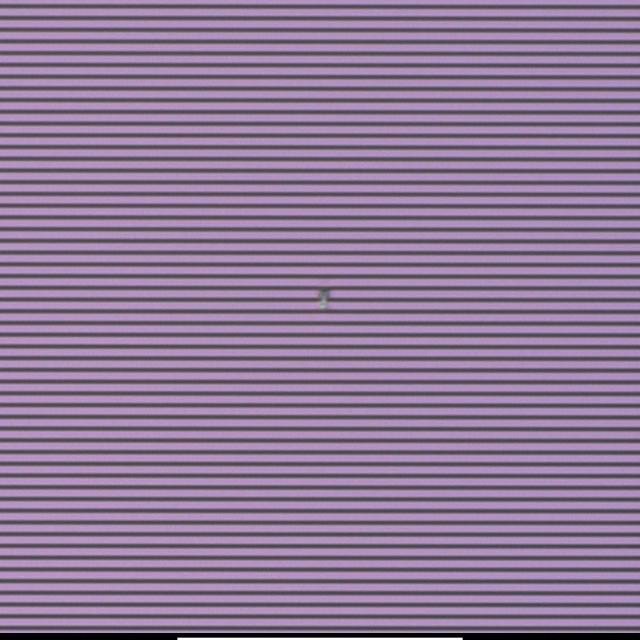03_intrusion: (316, 283, 336, 312)
